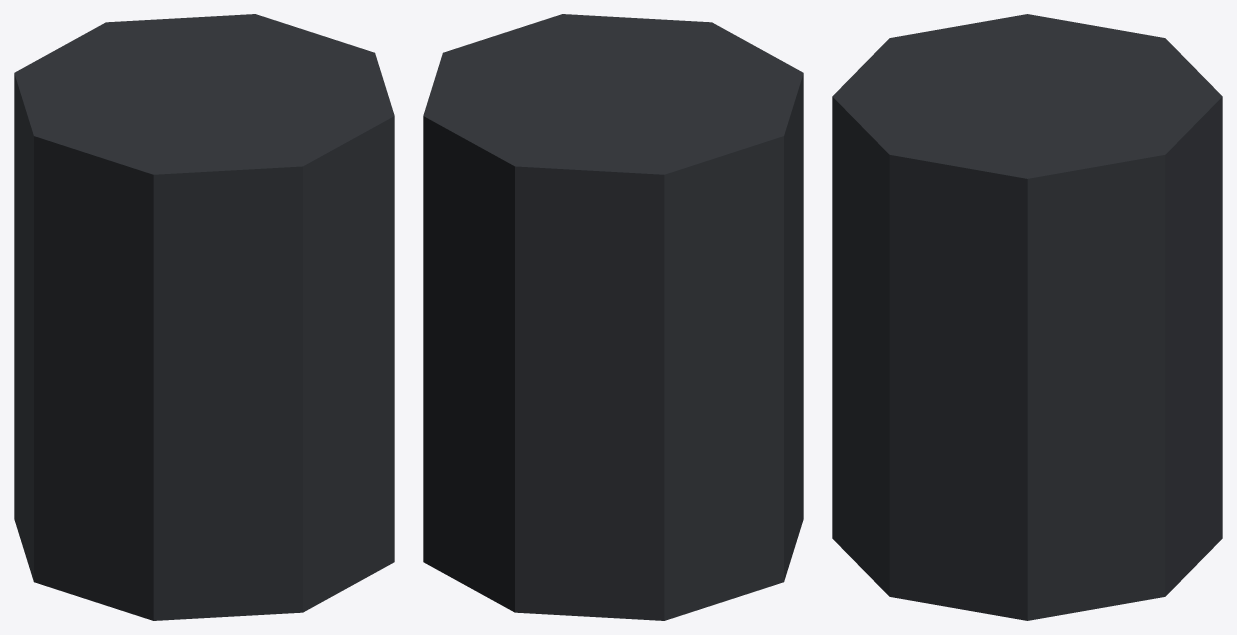
Rendered from Adapter_HK_3Lug.fbx.
The picture shows the model from 3 angles, left to right: view 1: azimuth 30°, elevation 25°; view 2: azimuth 150°, elevation 25°; view 3: azimuth 270°, elevation 25°; orthographic projection.
Visible parts, largest first — view 1: prims; view 2: prims; view 3: prims.
Boxes of the visible parts, x1=… form: prims: x1=14, y1=14, x2=394, y2=620; prims: x1=423, y1=14, x2=803, y2=620; prims: x1=832, y1=14, x2=1222, y2=620.
Bounding box in the file's own units: 0.0144 × 0.018 × 0.0144.
